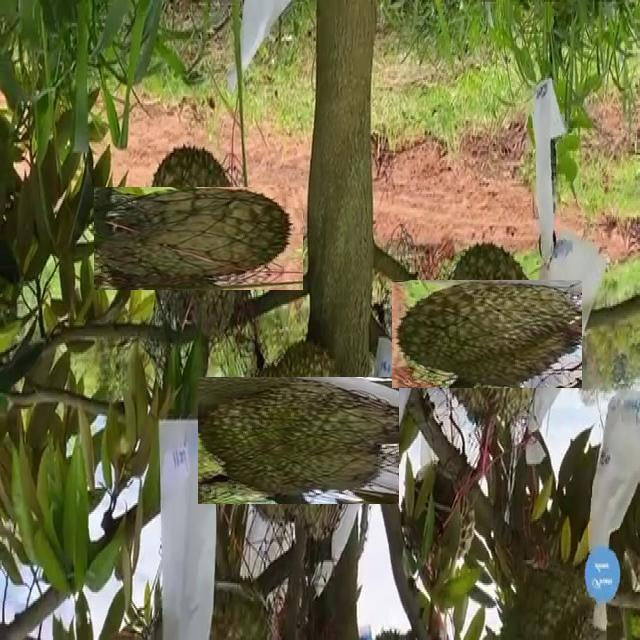durian: (216, 358, 381, 522), (120, 160, 277, 317), (412, 259, 562, 408)
